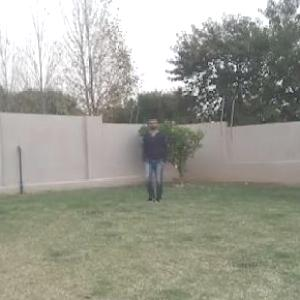follow: (142, 112, 166, 208)
